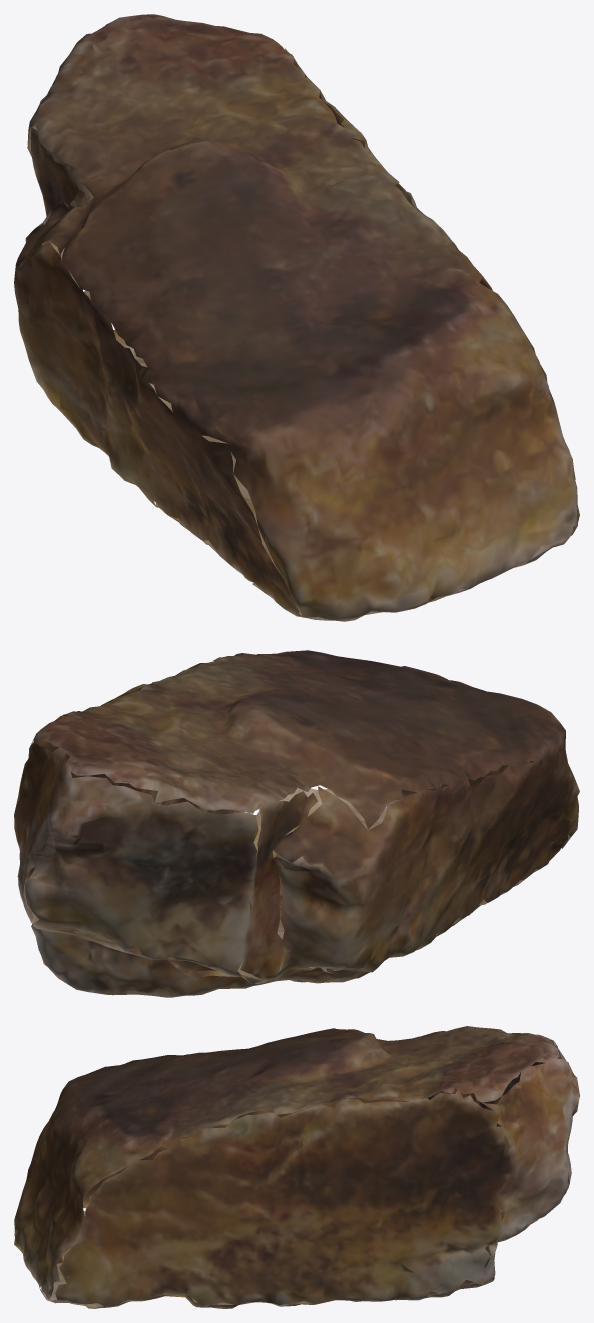
Rendered from rock-07.glb.
3 renders of one model, top to bottom at view 1: azimuth 30°, elevation 25°; view 2: azimuth 150°, elevation 25°; view 3: azimuth 270°, elevation 25°, orthographic. The views are drawn at different scales.
Parts seen in each view (by area): view 1: rock_07; view 2: rock_07; view 3: rock_07.
Part boxes in pixels (x1,y1,x2,y2): rock_07: (14, 14, 579, 621); rock_07: (14, 650, 579, 997); rock_07: (14, 1026, 579, 1308).
Size of the model in its own units: 0.1685 by 0.1428 by 0.3198.
1 material, 1 textured.
